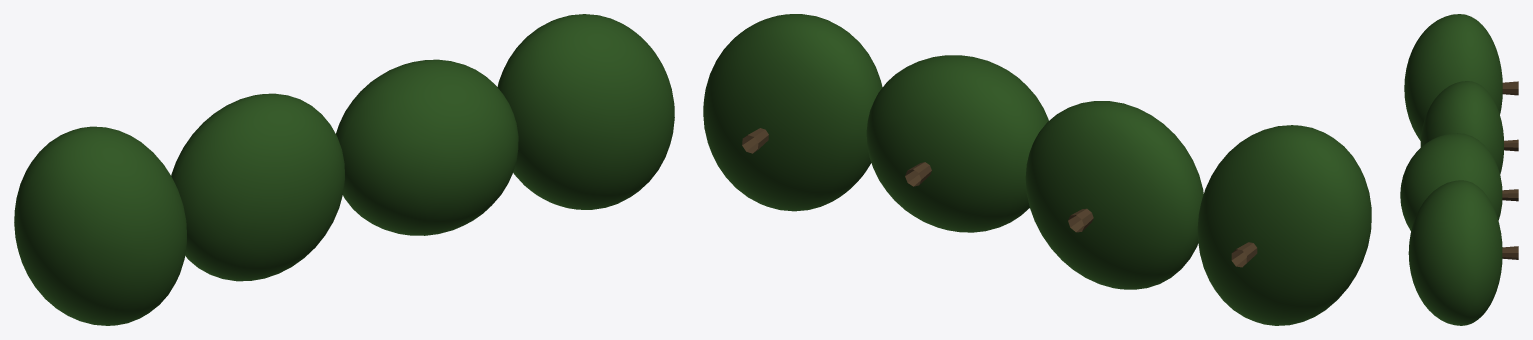
The model's file is citrus_plain4_f.obj.
3 views of the same model, side by side, from view 1: azimuth 30°, elevation 25°; view 2: azimuth 150°, elevation 25°; view 3: azimuth 270°, elevation 25° (orthographic). The views are drawn at different scales.
Visible parts, largest first — view 1: canopy; view 2: canopy, trunk; view 3: canopy, trunk.
Boxes of the visible parts, x1=… form: canopy: x1=14, y1=14, x2=674, y2=325; canopy: x1=703, y1=14, x2=1371, y2=325; trunk: x1=742, y1=128, x2=1257, y2=267; canopy: x1=1400, y1=14, x2=1503, y2=325; trunk: x1=1502, y1=81, x2=1518, y2=259.
Bounding box in the file's own units: 12 × 3.49 × 2.8.
